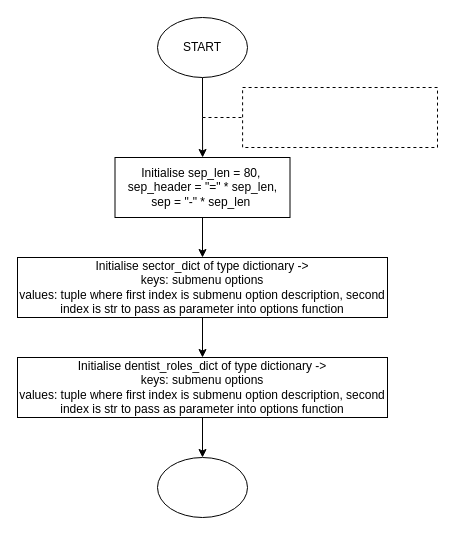
This 455x535 diagram has some shape labels left out. The shapes that lost their labels are listed below. From the top down, each one's box as (x1, y1, x2, y2) in pixels, then its label:
(242, 86, 438, 148): import option_functions as options from data import year_range, years
(156, 456, 248, 518): END
